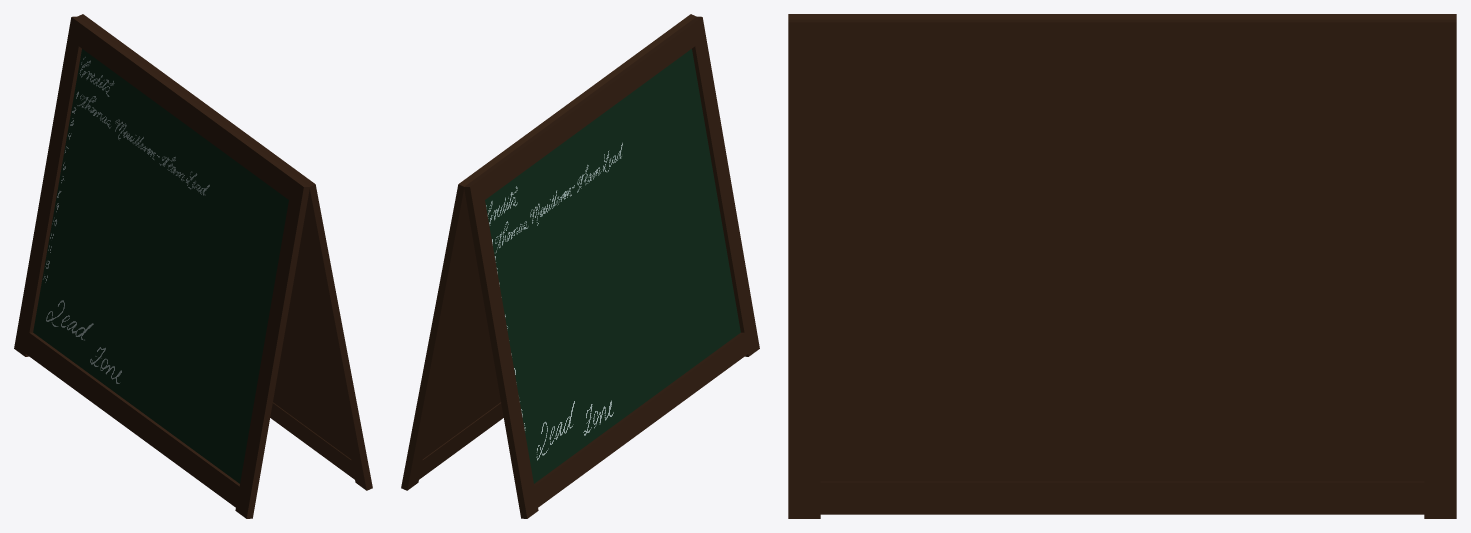
The model's file is SM_CreditsBaord.glb.
3 views of the same model, side by side, from view 1: azimuth 30°, elevation 25°; view 2: azimuth 150°, elevation 25°; view 3: azimuth 270°, elevation 25° (orthographic). The views are drawn at different scales.
Visible parts, largest first — view 1: SM_CreditsBoard; view 2: SM_CreditsBoard; view 3: SM_CreditsBoard.
Part boxes in pixels (box(x1,y1,x2,y2)): SM_CreditsBoard: box(14, 14, 372, 518); SM_CreditsBoard: box(401, 14, 759, 518); SM_CreditsBoard: box(788, 14, 1456, 518).
Bounding box in the file's own units: 0.5104 × 1.23 × 1.63.
2 materials, 1 textured.
